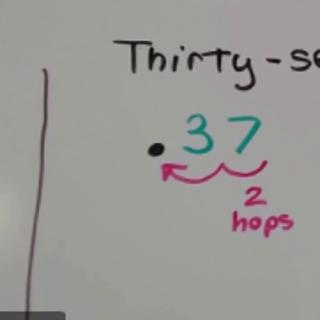.: (139, 132, 173, 159)
2: (240, 183, 271, 207)
3: (179, 109, 213, 162)
7: (224, 114, 263, 155)
